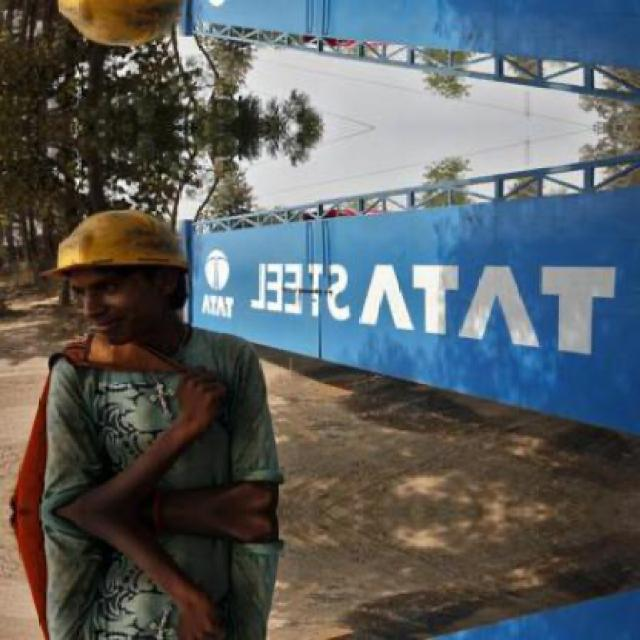con casco: (48, 193, 208, 319)
